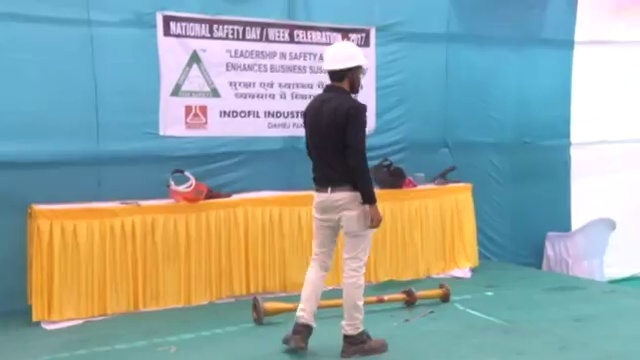helmet: (321, 39, 370, 72)
helmet_on: (319, 39, 370, 97)
person: (283, 38, 388, 356)
